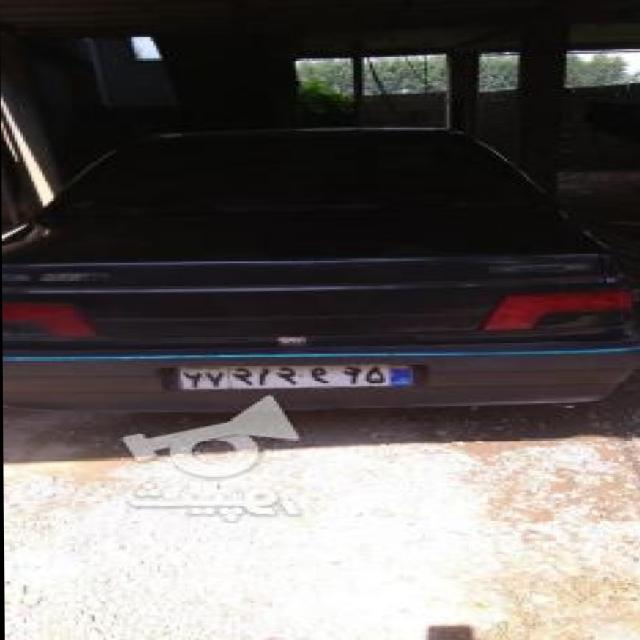licence: (172, 360, 421, 391)
